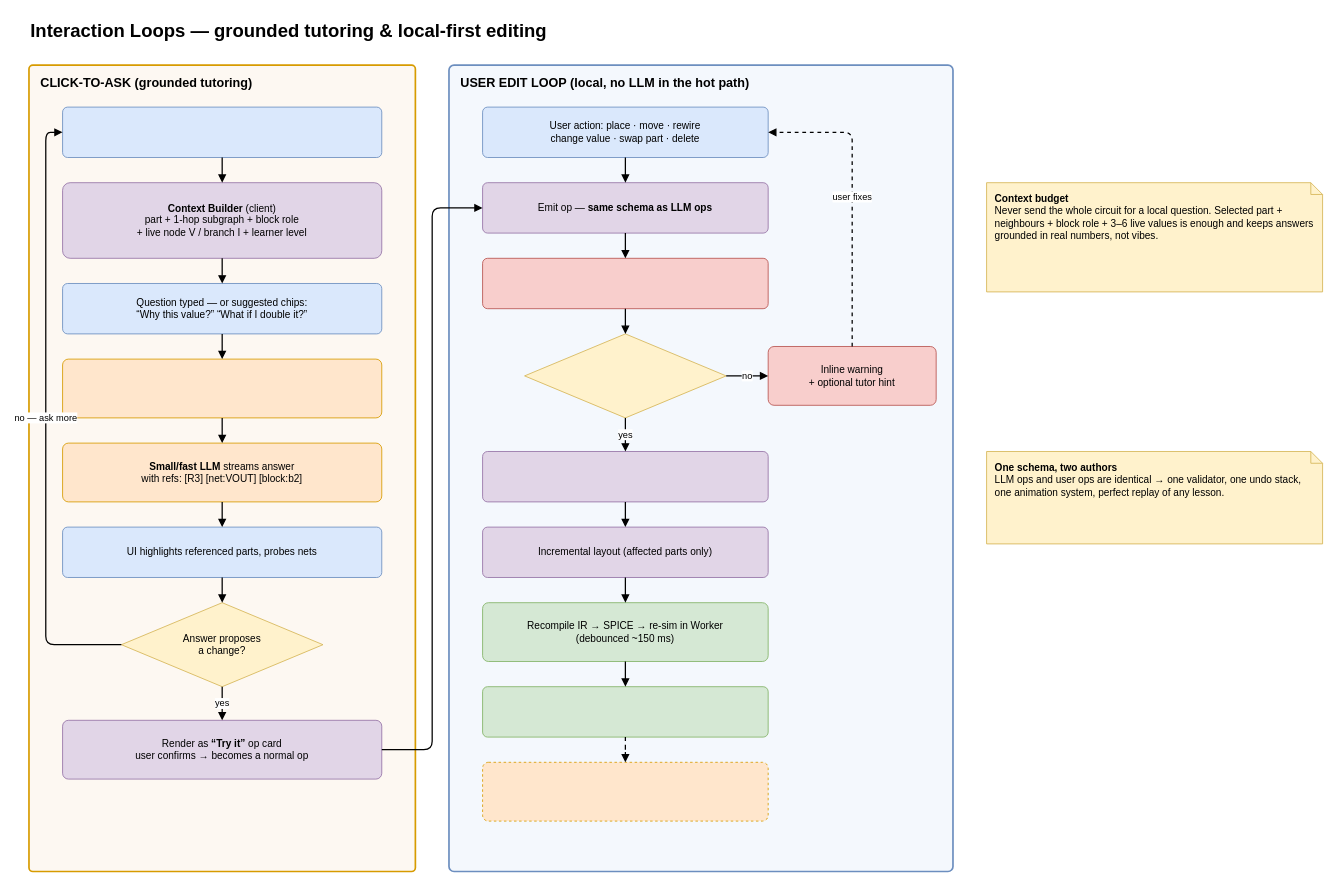
This 1337x886 diagram has some shape labels left out. Each missing label, with the box of its shape:
Append to Op Log (undo/redo · autosave · CRDT-ready): (482, 451, 768, 502)
Local validate: ⚙ circuit-core WASM (< 1 ms): (482, 257, 768, 309)
Optional: “What changed & why?” tutor explains sim diff (before vs after): (482, 761, 768, 821)
Tutor Service cached system prompt + ~1–2k token context: (62, 358, 382, 418)
Update overlays: current flow · node voltages · scope traces: (482, 686, 768, 737)
User selects R3 / a net / a block: (62, 106, 382, 158)
Valid?: (524, 333, 726, 418)
